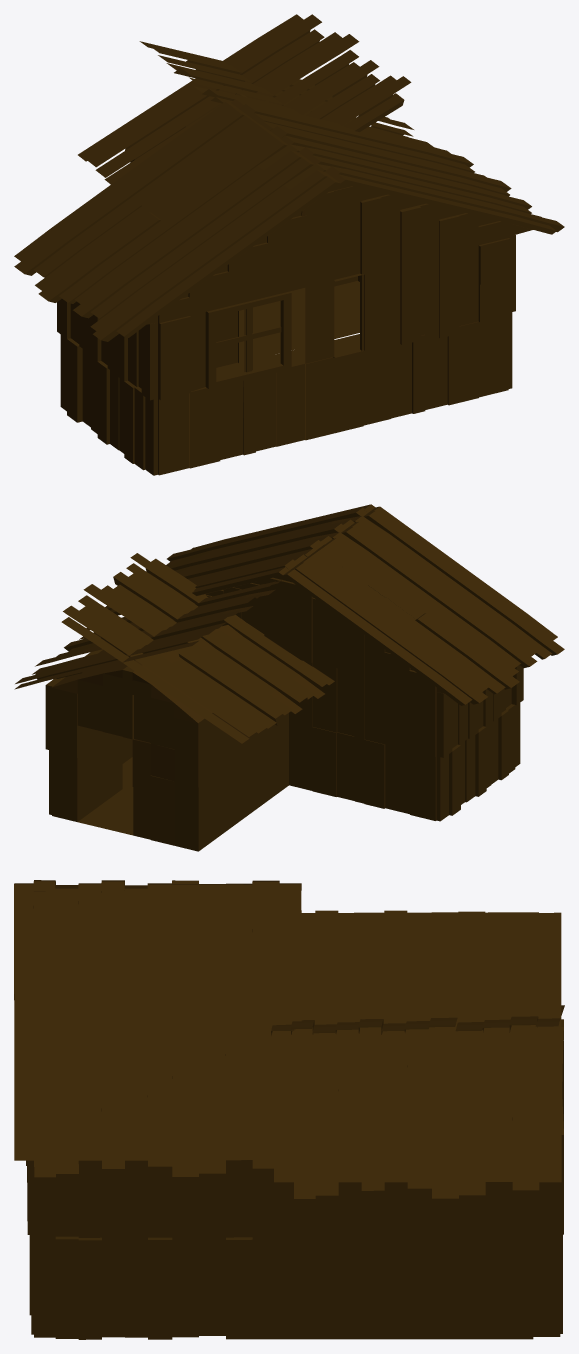
Rendered from big house.fbx.
The picture shows the model from 3 angles, top to bottom: view 1: azimuth 30°, elevation 25°; view 2: azimuth 150°, elevation 25°; view 3: azimuth 270°, elevation 25°; orthographic projection. The views are drawn at different scales.
Parts seen in each view (by area): view 1: Cube.001; view 2: Cube.001; view 3: Cube.001.
Boxes of the visible parts, left/top/right/bottom form: Cube.001: left=14, top=14, right=564, bottom=475; Cube.001: left=14, top=504, right=564, bottom=851; Cube.001: left=14, top=880, right=564, bottom=1339.
Bounding box in the file's own units: 4311 × 2279 × 3372.
